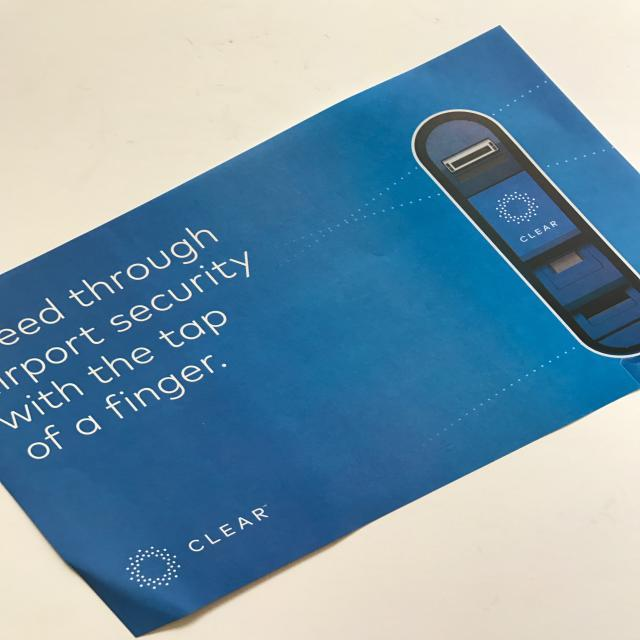paper: (23, 24, 640, 636)
